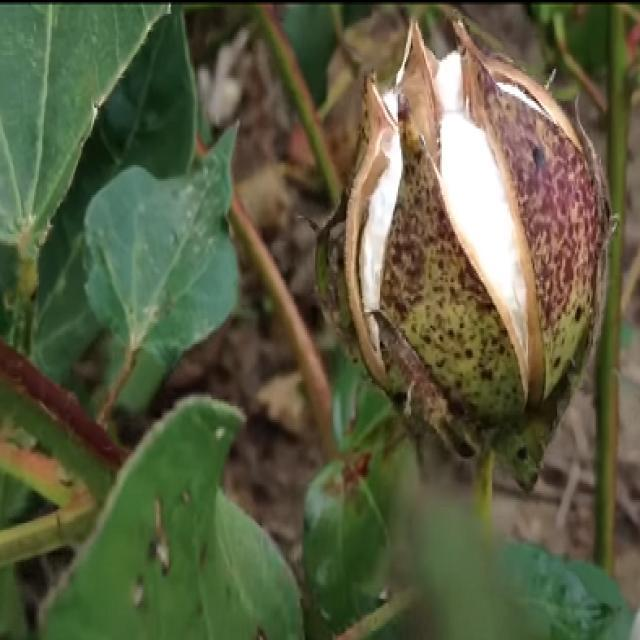Split Cotton Boll: (340, 33, 610, 431)
